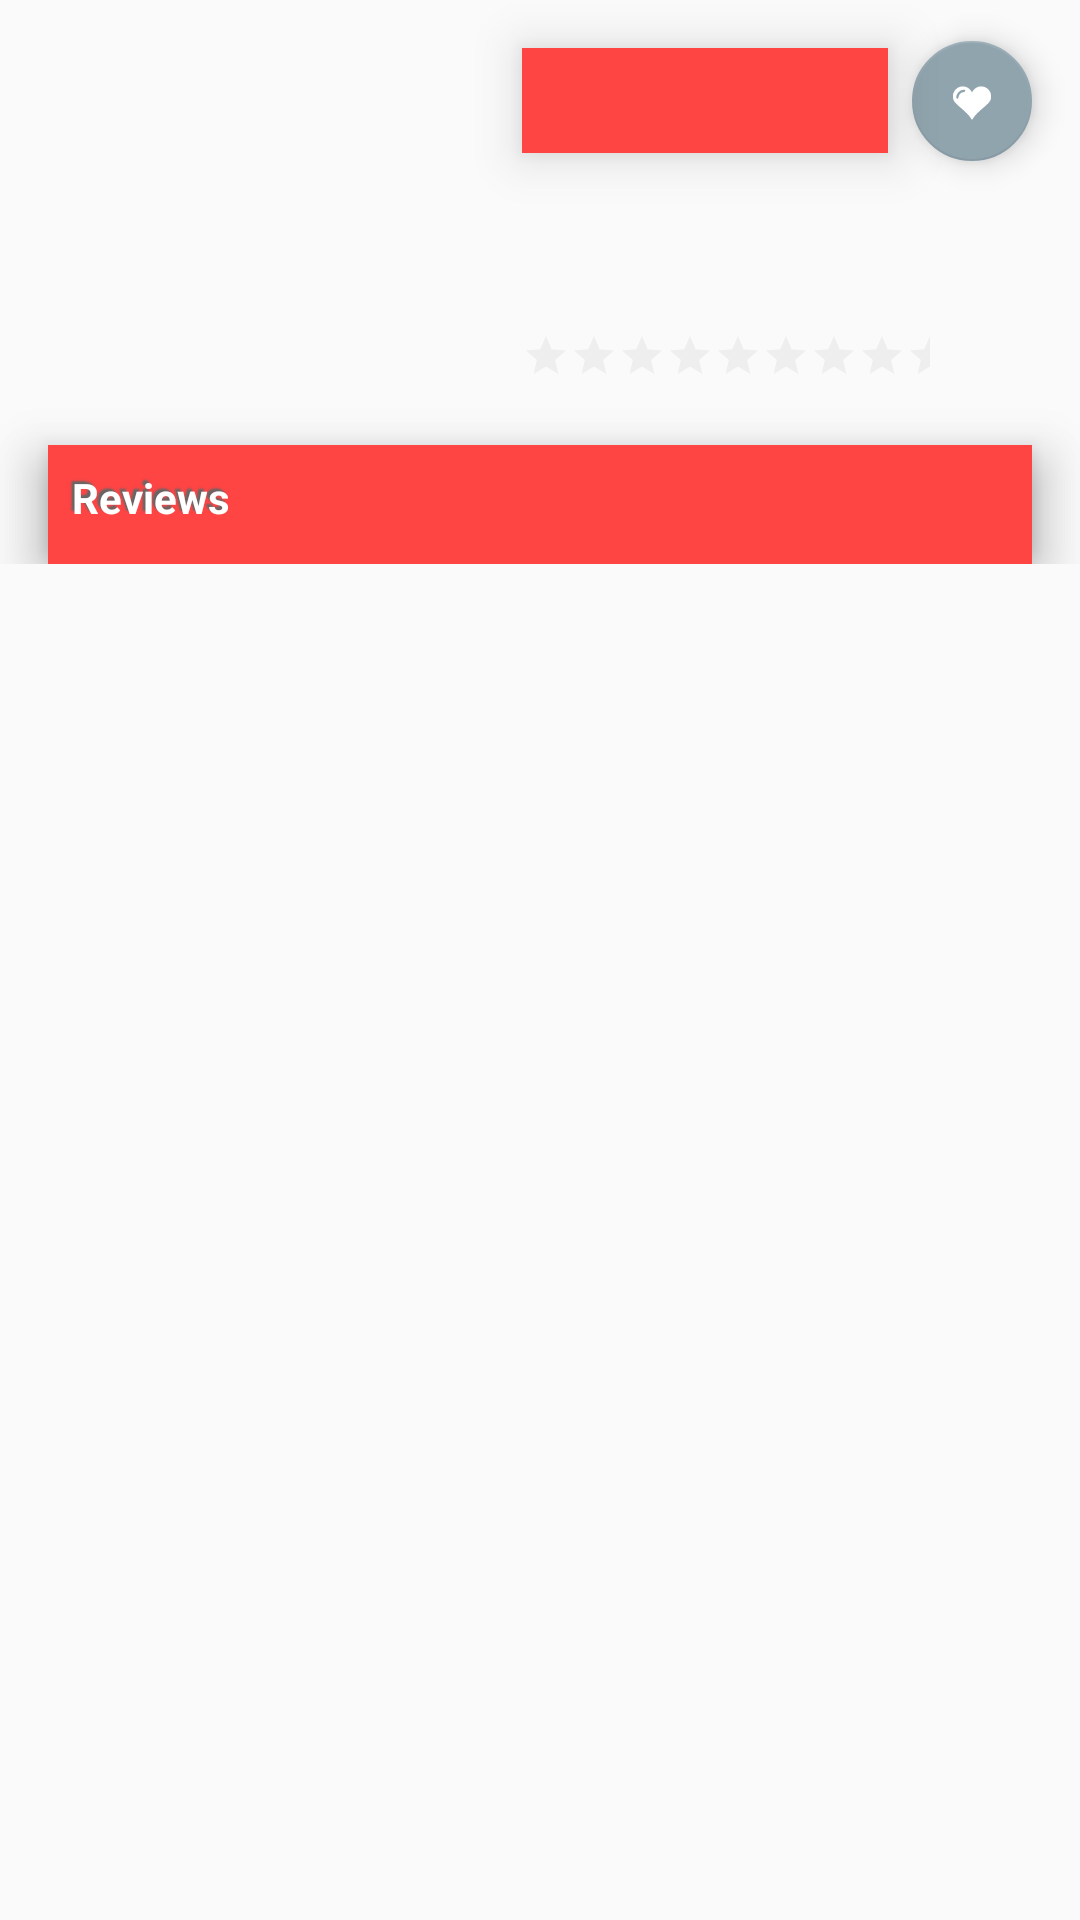

Icons on this 1080×1920 Android screen, each with the point to tap as (x,y):
like: (972,101)
